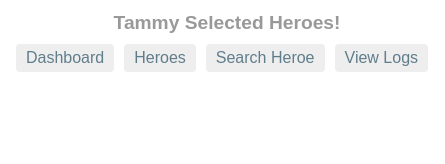
Test: Testing Heroes functionality › Navigate to Heroes
Click the link to "/heroes" at (160, 58), box [124, 44, 196, 72]
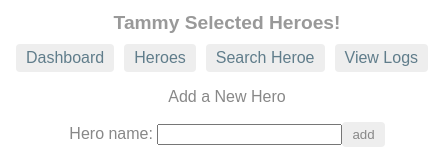
Expected: the field labelled "Hero name:" is empty, [157, 124, 342, 145]
Expected: the text "Add a New Hero" is shown, [168, 88, 286, 105]
